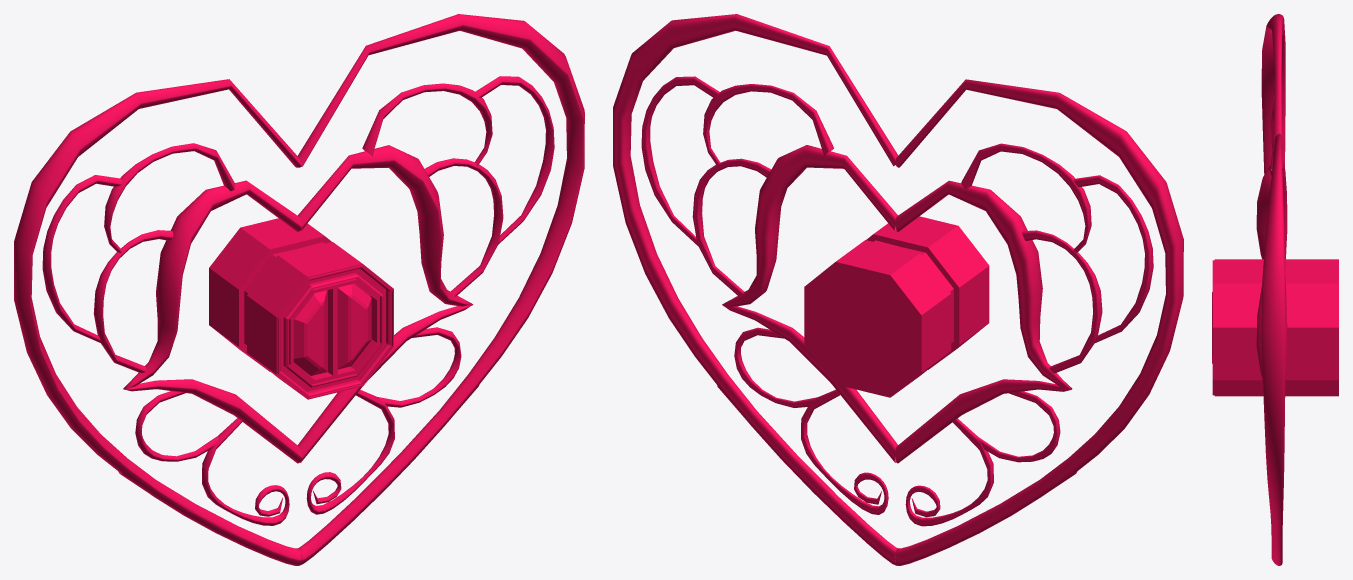
Rendered from Philautia_TheLovers.fbx.
The picture shows the model from 3 angles, left to right: view 1: azimuth 30°, elevation 25°; view 2: azimuth 150°, elevation 25°; view 3: azimuth 270°, elevation 25°; orthographic projection. The views are drawn at different scales.
Visible parts, largest first — view 1: NurbsPath.001, Cube, NurbsPath, NurbsPath.004, NurbsPath.002, NurbsPath.006, NurbsPath.003, NurbsPath.005; view 2: NurbsPath.001, Cube, NurbsPath, NurbsPath.004, NurbsPath.002, NurbsPath.006, NurbsPath.003, NurbsPath.005; view 3: Cube, NurbsPath.001, NurbsPath.
Boxes of the visible parts, box(x1,y1,x2,y2) form: NurbsPath.001: box(14, 14, 584, 565); Cube: box(209, 218, 393, 399); NurbsPath: box(123, 145, 473, 463); NurbsPath.004: box(42, 76, 554, 342); NurbsPath.002: box(104, 83, 492, 252); NurbsPath.006: box(202, 389, 394, 525); NurbsPath.003: box(93, 158, 503, 372); NurbsPath.005: box(135, 327, 461, 461); NurbsPath.001: box(613, 14, 1183, 565); Cube: box(804, 216, 989, 397); NurbsPath: box(722, 145, 1072, 463); NurbsPath.004: box(641, 76, 1153, 343); NurbsPath.002: box(703, 84, 1091, 252); NurbsPath.006: box(801, 389, 993, 526); NurbsPath.003: box(692, 158, 1102, 373); NurbsPath.005: box(734, 327, 1060, 462); Cube: box(1212, 259, 1338, 396); NurbsPath.001: box(1261, 14, 1285, 565); NurbsPath: box(1256, 162, 1287, 380).
Size of the model in its own units: 1434 by 1241 by 303.
